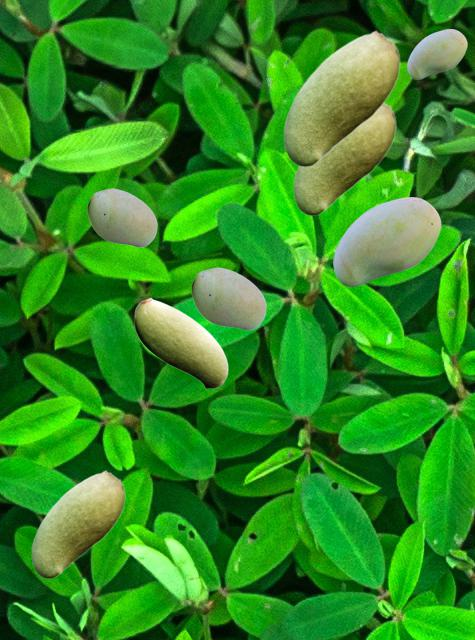green_mango: (283, 30, 399, 165), (293, 102, 395, 214), (31, 470, 124, 577), (333, 197, 440, 285), (134, 297, 227, 388), (191, 267, 265, 329), (87, 188, 156, 246), (407, 29, 466, 78)
